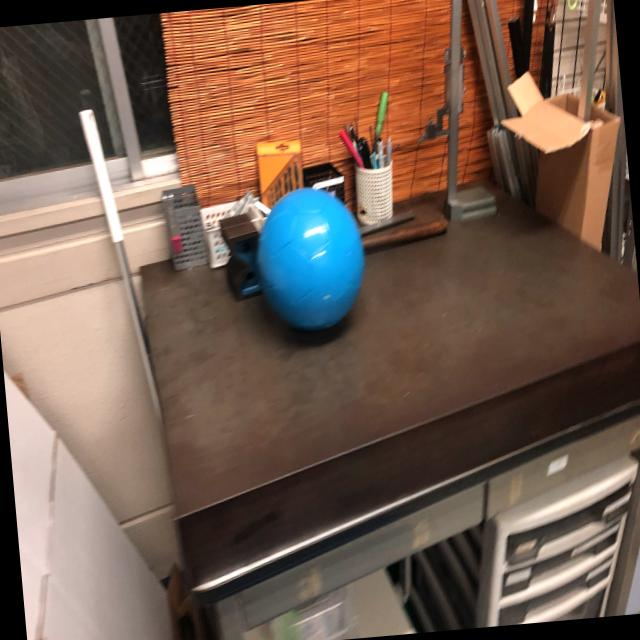blue_ball: (245, 185, 372, 348)
